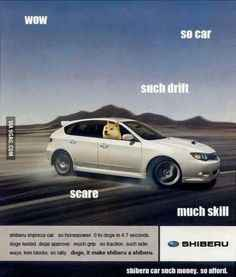doge: (101, 121, 121, 140)
